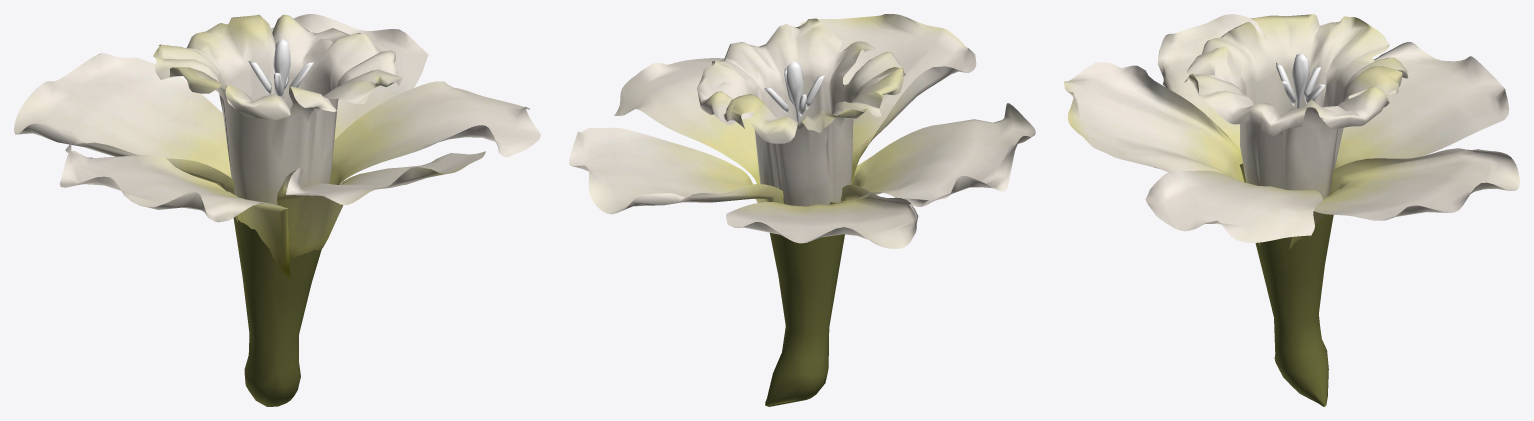
3 views of the same model, side by side, from view 1: azimuth 30°, elevation 25°; view 2: azimuth 150°, elevation 25°; view 3: azimuth 270°, elevation 25° (orthographic). The views are drawn at different scales.
Visible parts, largest first — view 1: G-Ellipse164 70% 70% 70% 70%.010; view 2: G-Ellipse164 70% 70% 70% 70%.010; view 3: G-Ellipse164 70% 70% 70% 70%.010.
Part boxes in pixels (x1,y1,x2,y2): G-Ellipse164 70% 70% 70% 70%.010: (14, 14, 540, 406); G-Ellipse164 70% 70% 70% 70%.010: (569, 14, 1035, 406); G-Ellipse164 70% 70% 70% 70%.010: (1064, 14, 1519, 406).
Size of the model in its own units: 0.5 by 0.4047 by 0.4825.
3 materials, 1 textured.
